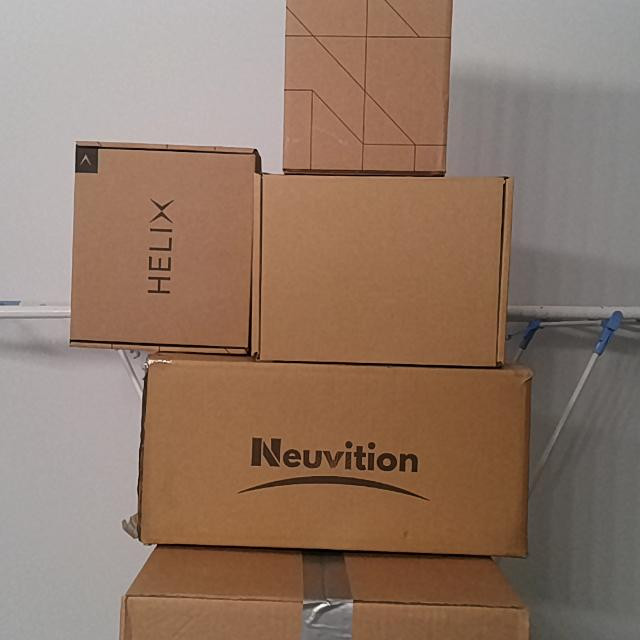box: (140, 362, 529, 548), (252, 175, 513, 363), (71, 146, 255, 349), (282, 0, 445, 170), (123, 600, 529, 640)
